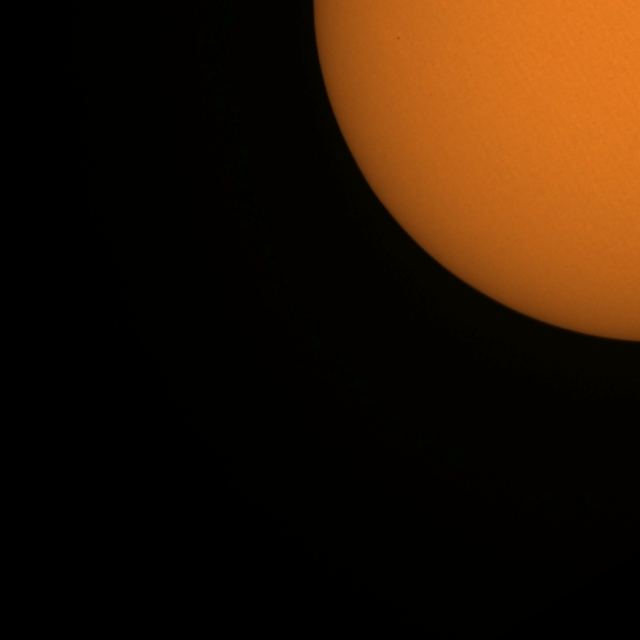sunspot: (395, 35, 401, 42)
